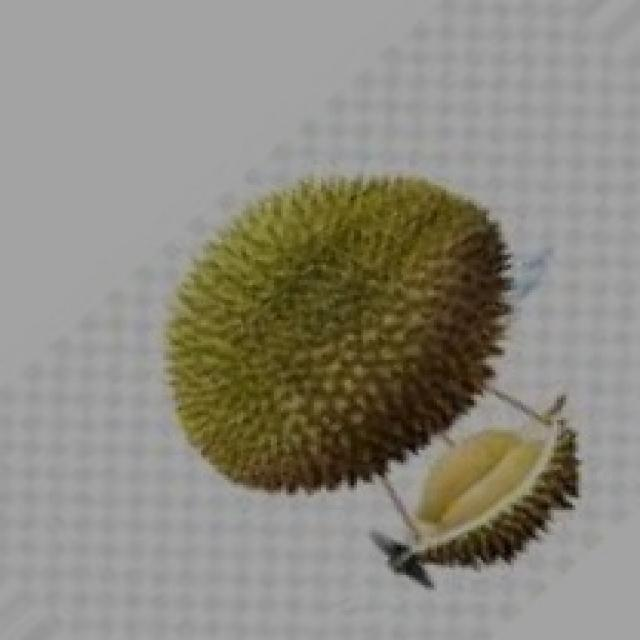fruit: (117, 132, 535, 532)
